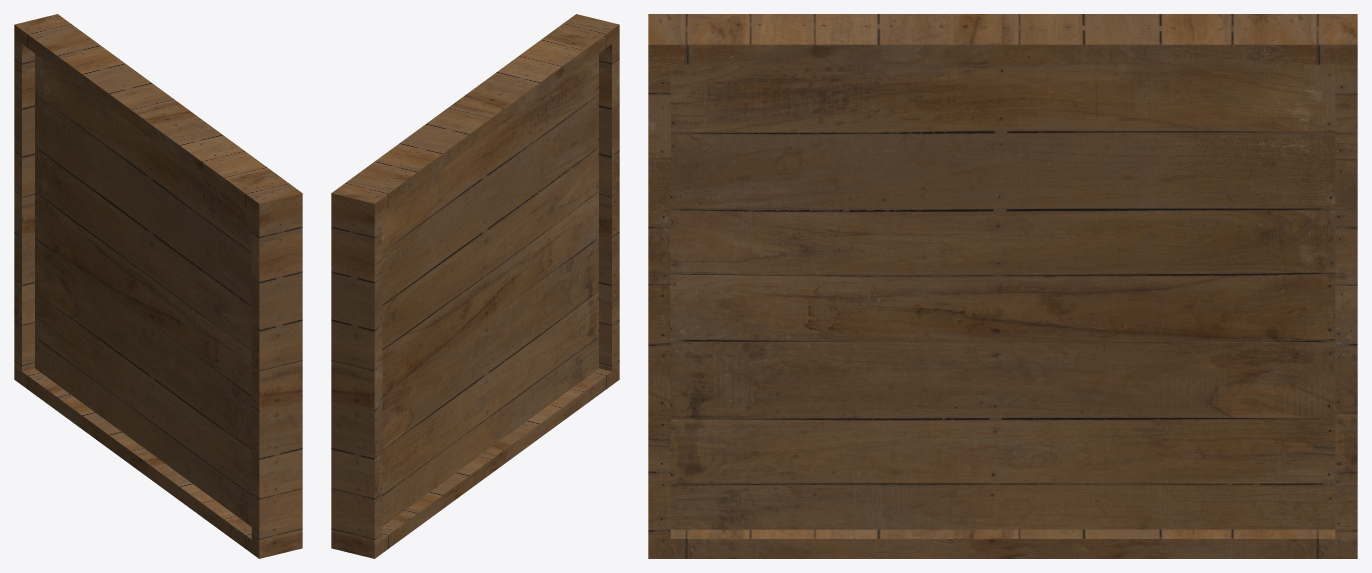
The model's file is WoodFenceThing.fbx.
3 renders of one model, left to right at view 1: azimuth 30°, elevation 25°; view 2: azimuth 150°, elevation 25°; view 3: azimuth 270°, elevation 25°, orthographic. The views are drawn at different scales.
Parts seen in each view (by area): view 1: Cube.001; view 2: Cube.001; view 3: Cube.001.
Boxes of the visible parts, bbox=[...] form: Cube.001: bbox=[14, 14, 302, 558]; Cube.001: bbox=[331, 14, 619, 558]; Cube.001: bbox=[648, 14, 1357, 558].
Bounding box in the file's own units: 10.24 × 80.24 × 100.
1 material, 1 textured.
